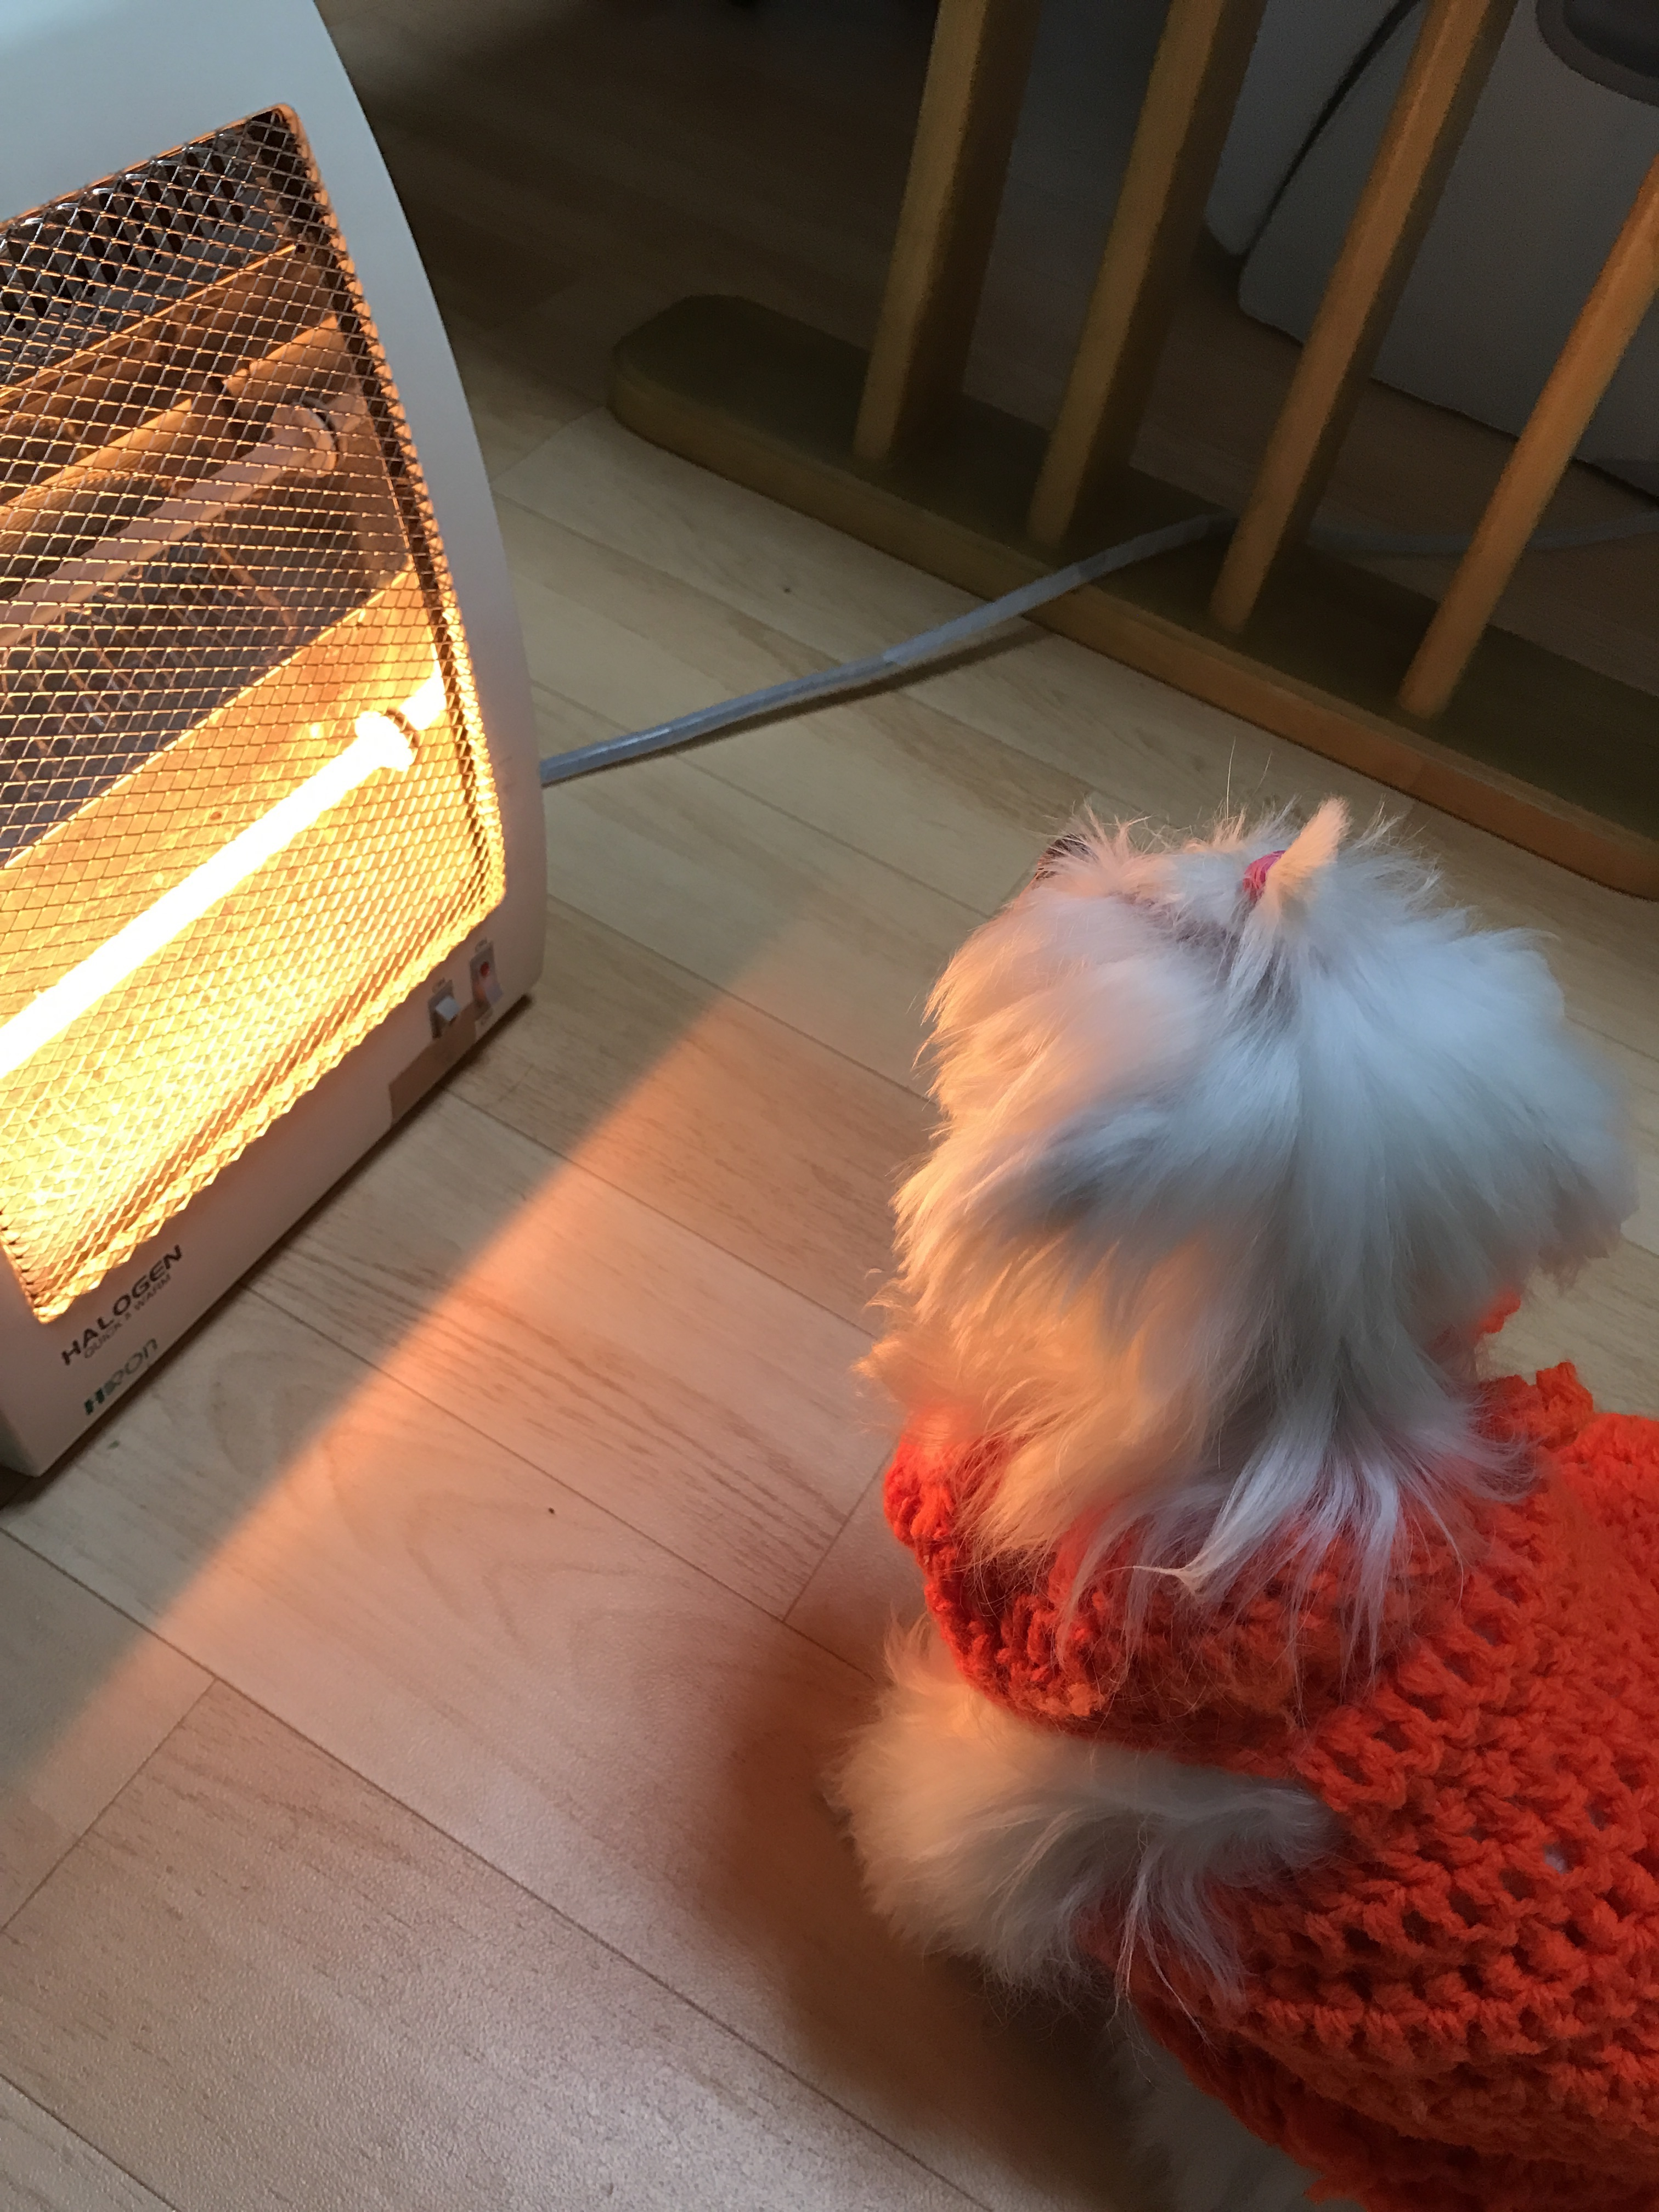dog: (816, 784, 1650, 2212)
